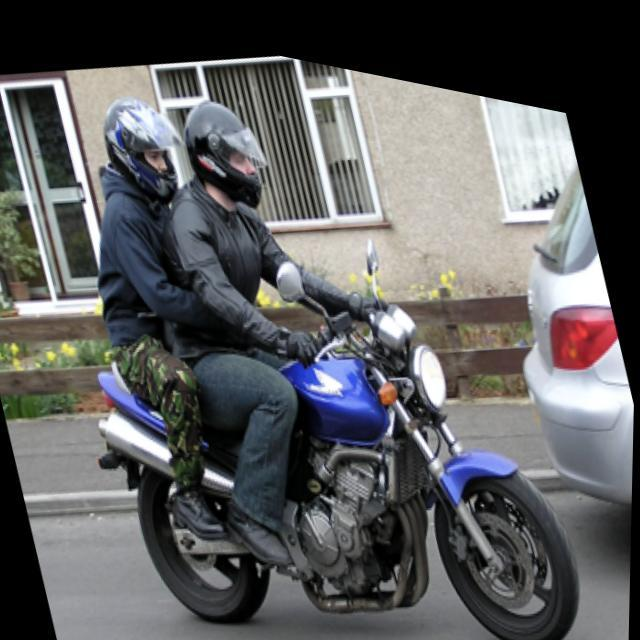Helmet: (179, 93, 270, 218), (100, 92, 178, 210)
